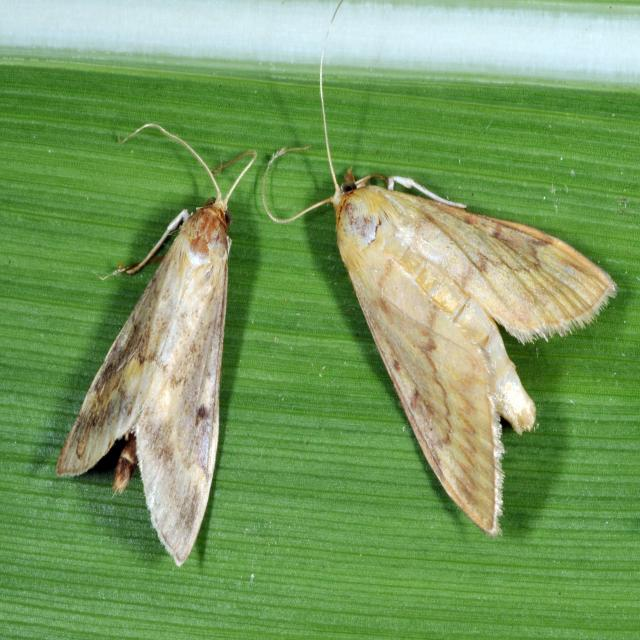cornborer-Adult-: (277, 145, 620, 540), (57, 138, 262, 563)
